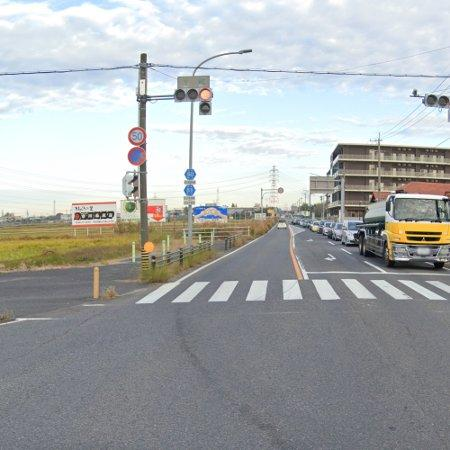crosswalks: (136, 279, 450, 303)
